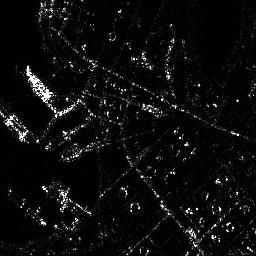ship: (24, 64, 55, 102)
